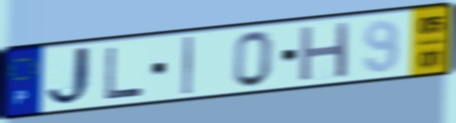0: (230, 28, 276, 90)
9: (361, 18, 404, 75)
H: (297, 19, 353, 84)
I: (180, 34, 196, 97)
J: (45, 43, 98, 109)
L: (103, 45, 146, 101)
